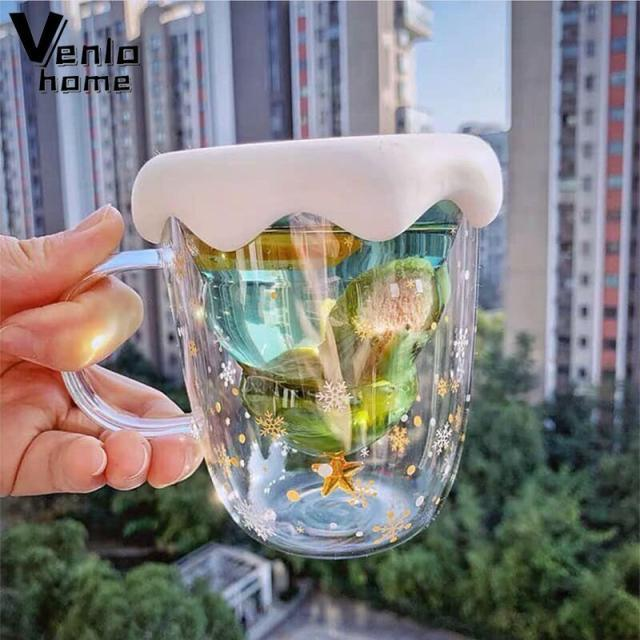Coffee Mug: (55, 132, 503, 561)
